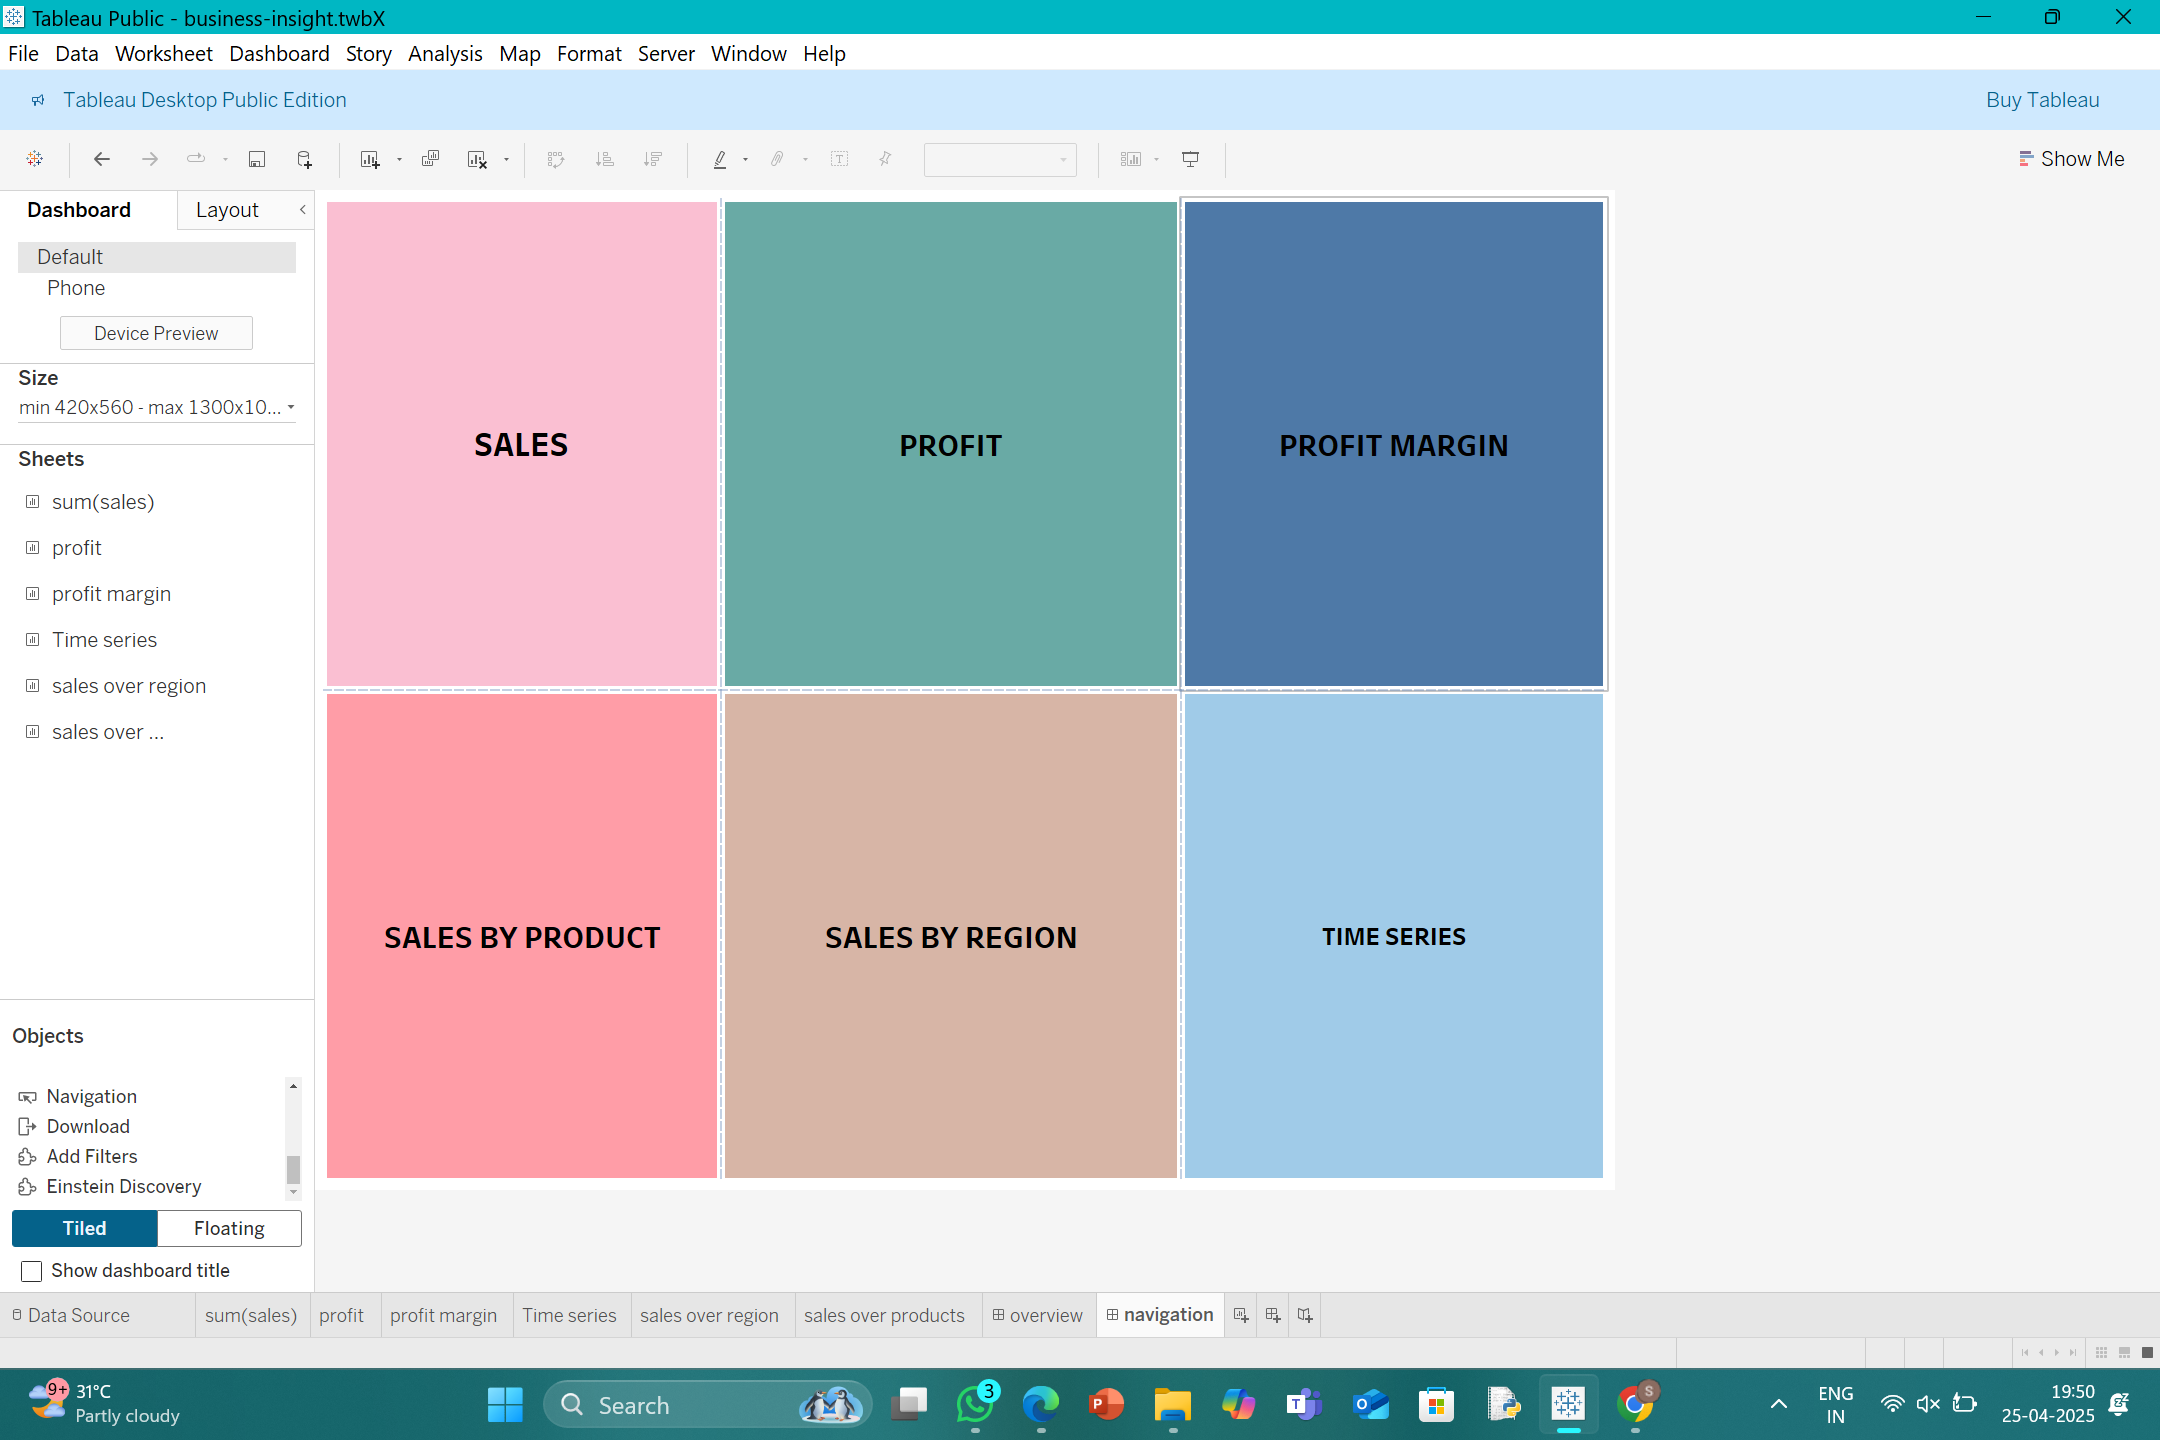

Layout of this report page (visuals, bound fields, positions):
{"tool":"tableau","page":{"name":"navigation","canvas":[1000,1000],"units":"permille","ordinal":0},"visuals":[{"type":"dashboard-object","box":[6.2,8,306.2,492]},{"type":"dashboard-object","box":[312.3,8,353.8,492]},{"type":"dashboard-object","box":[666.1,8,327.7,492]},{"type":"dashboard-object","box":[6.2,500,306.2,492]},{"type":"dashboard-object","box":[312.3,500,353.8,492]},{"type":"dashboard-object","box":[666.1,500,327.7,492]}]}

Visuals, with their boxes on the dashboard's canvas, which has no fixed pixel size, in thousandths of its width and height (x1, y1, x2, y2). These are canvas units, not pixel positions in the 2160x1440 screenshot, which may show the page scaled, cropped or inside an application window:
dashboard-object: [left=6, top=8, right=312, bottom=500]
dashboard-object: [left=312, top=8, right=666, bottom=500]
dashboard-object: [left=666, top=8, right=994, bottom=500]
dashboard-object: [left=6, top=500, right=312, bottom=992]
dashboard-object: [left=312, top=500, right=666, bottom=992]
dashboard-object: [left=666, top=500, right=994, bottom=992]
